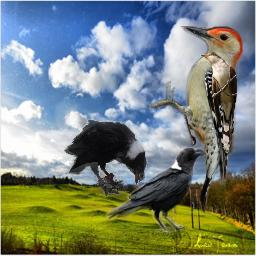Crow: (105, 144, 208, 234), (64, 119, 148, 196)
Cuckoo: (200, 52, 238, 153)
Woodpecker: (148, 26, 243, 213)
